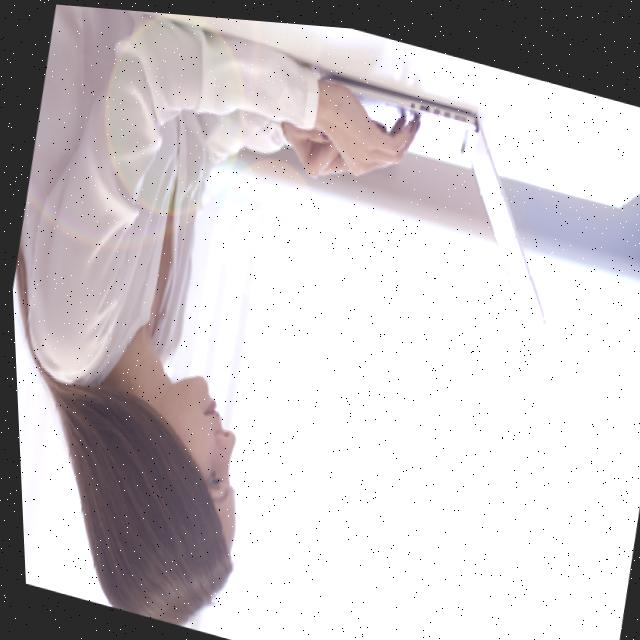notebook-person: (0, 0, 615, 640)
